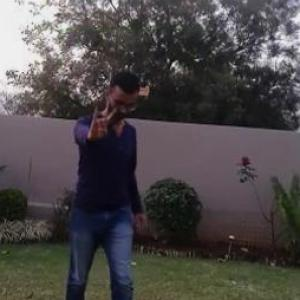takeoff-hand: (84, 92, 114, 143)
